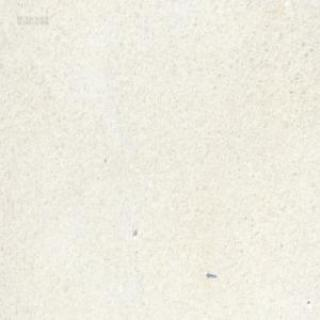Nailtrack_idkeyframe: (205, 270, 216, 277)
